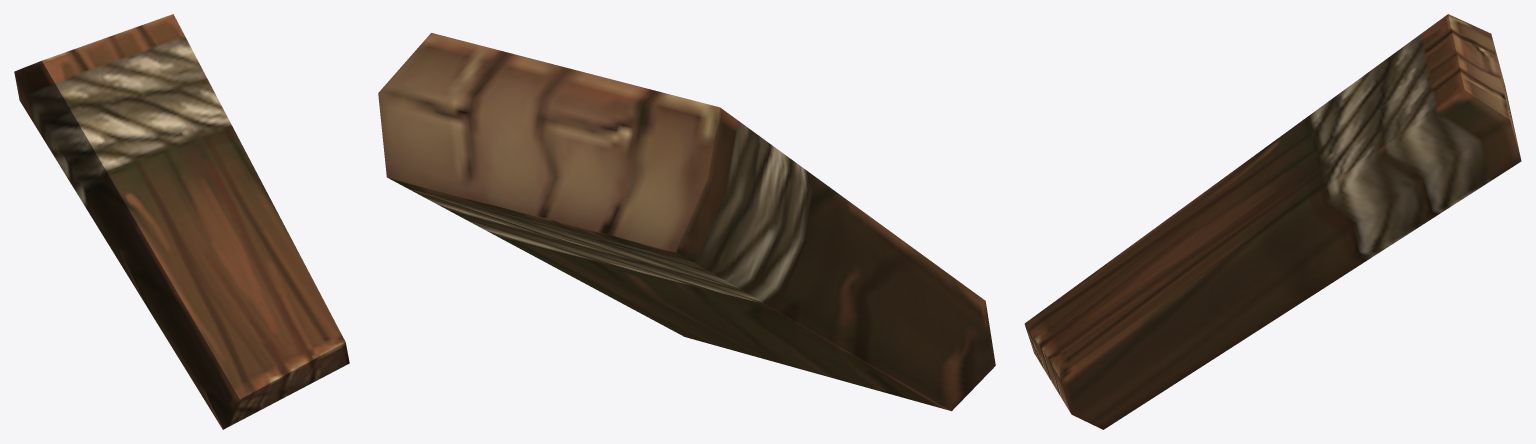
Rendered from rope_bridge_module_broken05.fbx.
3 views of the same model, side by side, from view 1: azimuth 30°, elevation 25°; view 2: azimuth 150°, elevation 25°; view 3: azimuth 270°, elevation 25° (orthographic). The views are drawn at different scales.
Visible parts, largest first — view 1: rope_bridge_module_broken05; view 2: rope_bridge_module_broken05; view 3: rope_bridge_module_broken05.
Part boxes in pixels (x1=…): rope_bridge_module_broken05: x1=14, y1=14, x2=349, y2=429; rope_bridge_module_broken05: x1=378, y1=33, x2=995, y2=411; rope_bridge_module_broken05: x1=1024, y1=14, x2=1521, y2=429.
Bounding box in the file's own units: 31.68 × 48.83 × 62.04.
